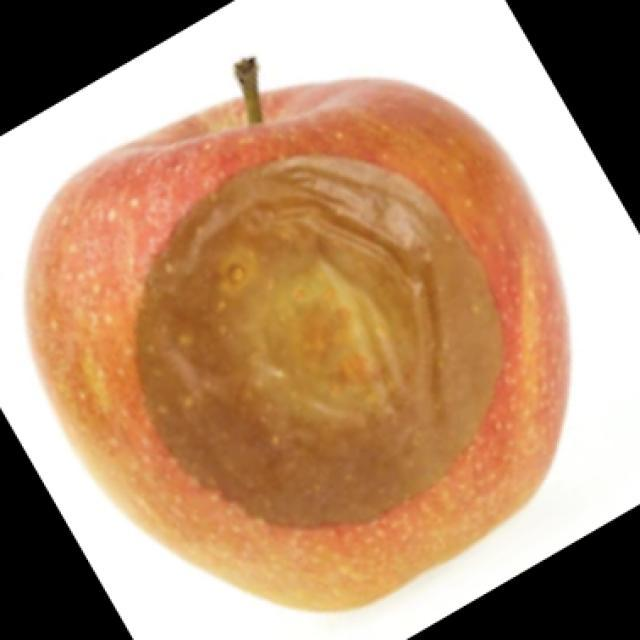Rotten: (45, 95, 585, 595)
